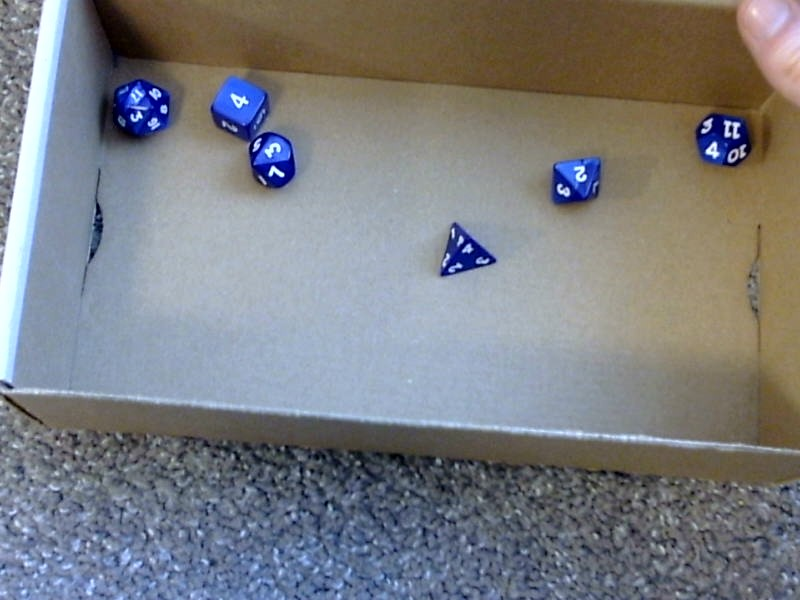d10 3: (245, 128, 302, 190)
d12 11: (691, 108, 753, 168)
d20 17: (106, 74, 172, 138)
d4 4: (437, 218, 497, 281)
d6 4: (203, 68, 269, 138)
d8 2: (544, 152, 604, 207)
